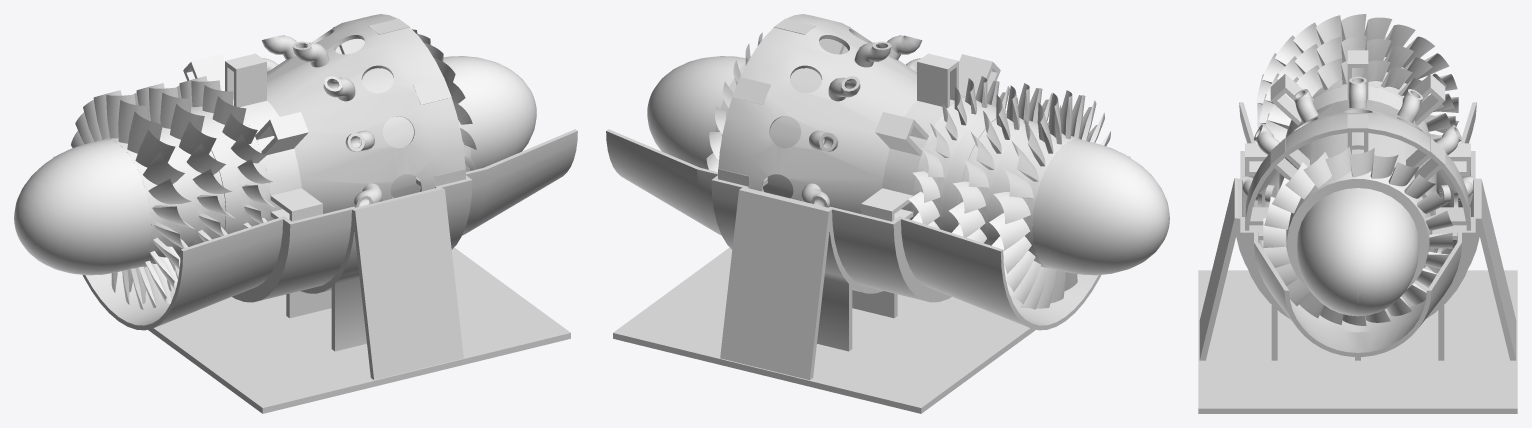
Rendered from TRD.fbx.
3 renders of one model, left to right at view 1: azimuth 30°, elevation 25°; view 2: azimuth 150°, elevation 25°; view 3: azimuth 270°, elevation 25°, orthographic. The views are drawn at different scales.
Parts seen in each view (by area): view 1: ТРД.001, ТРД.002, ТРД, ТРД.014, ТРД.003, ТРД.008, ТРД.012, ТРД.010, ТРД.004, ТРД.011, ТРД.009, ТРД.013; view 2: ТРД.001, ТРД.002, ТРД, ТРД.014, ТРД.003, ТРД.008, ТРД.012, ТРД.010, ТРД.004, ТРД.011, ТРД.013, ТРД.009; view 3: ТРД.001, ТРД.009, ТРД.008, ТРД.002, ТРД.014, ТРД.003, ТРД.010, ТРД.012, ТРД.004.
Boxes of the visible parts, left/top/right/bottom form: ТРД.001: left=53, top=129, right=577, bottom=413; ТРД.002: left=267, top=14, right=465, bottom=213; ТРД: left=14, top=139, right=151, bottom=275; ТРД.014: left=71, top=90, right=194, bottom=309; ТРД.003: left=183, top=53, right=322, bottom=221; ТРД.008: left=443, top=56, right=536, bottom=170; ТРД.012: left=133, top=83, right=235, bottom=291; ТРД.010: left=176, top=76, right=275, bottom=230; ТРД.004: left=261, top=35, right=382, bottom=207; ТРД.011: left=190, top=108, right=240, bottom=234; ТРД.009: left=412, top=29, right=476, bottom=171; ТРД.013: left=159, top=130, right=195, bottom=263; ТРД.001: left=606, top=129, right=1130, bottom=413; ТРД.002: left=718, top=14, right=916, bottom=213; ТРД: left=1032, top=139, right=1169, bottom=275; ТРД.014: left=989, top=90, right=1110, bottom=309; ТРД.003: left=861, top=53, right=1000, bottom=221; ТРД.008: left=647, top=56, right=745, bottom=169; ТРД.012: left=948, top=83, right=1061, bottom=245; ТРД.010: left=908, top=76, right=1017, bottom=230; ТРД.004: left=801, top=35, right=922, bottom=207; ТРД.011: left=943, top=108, right=1006, bottom=232; ТРД.013: left=988, top=124, right=1038, bottom=244; ТРД.009: left=706, top=32, right=762, bottom=171; ТРД.001: left=1198, top=102, right=1517, bottom=413; ТРД.009: left=1262, top=147, right=1453, bottom=325; ТРД.008: left=1297, top=188, right=1418, bottom=316; ТРД.002: left=1245, top=99, right=1470, bottom=319; ТРД.014: left=1256, top=14, right=1459, bottom=133; ТРД.003: left=1245, top=50, right=1470, bottom=175; ТРД.010: left=1265, top=58, right=1450, bottom=142; ТРД.012: left=1259, top=35, right=1455, bottom=135; ТРД.004: left=1242, top=76, right=1473, bottom=202.
Size of the model in its own units: 18464 by 9347 by 10730.
